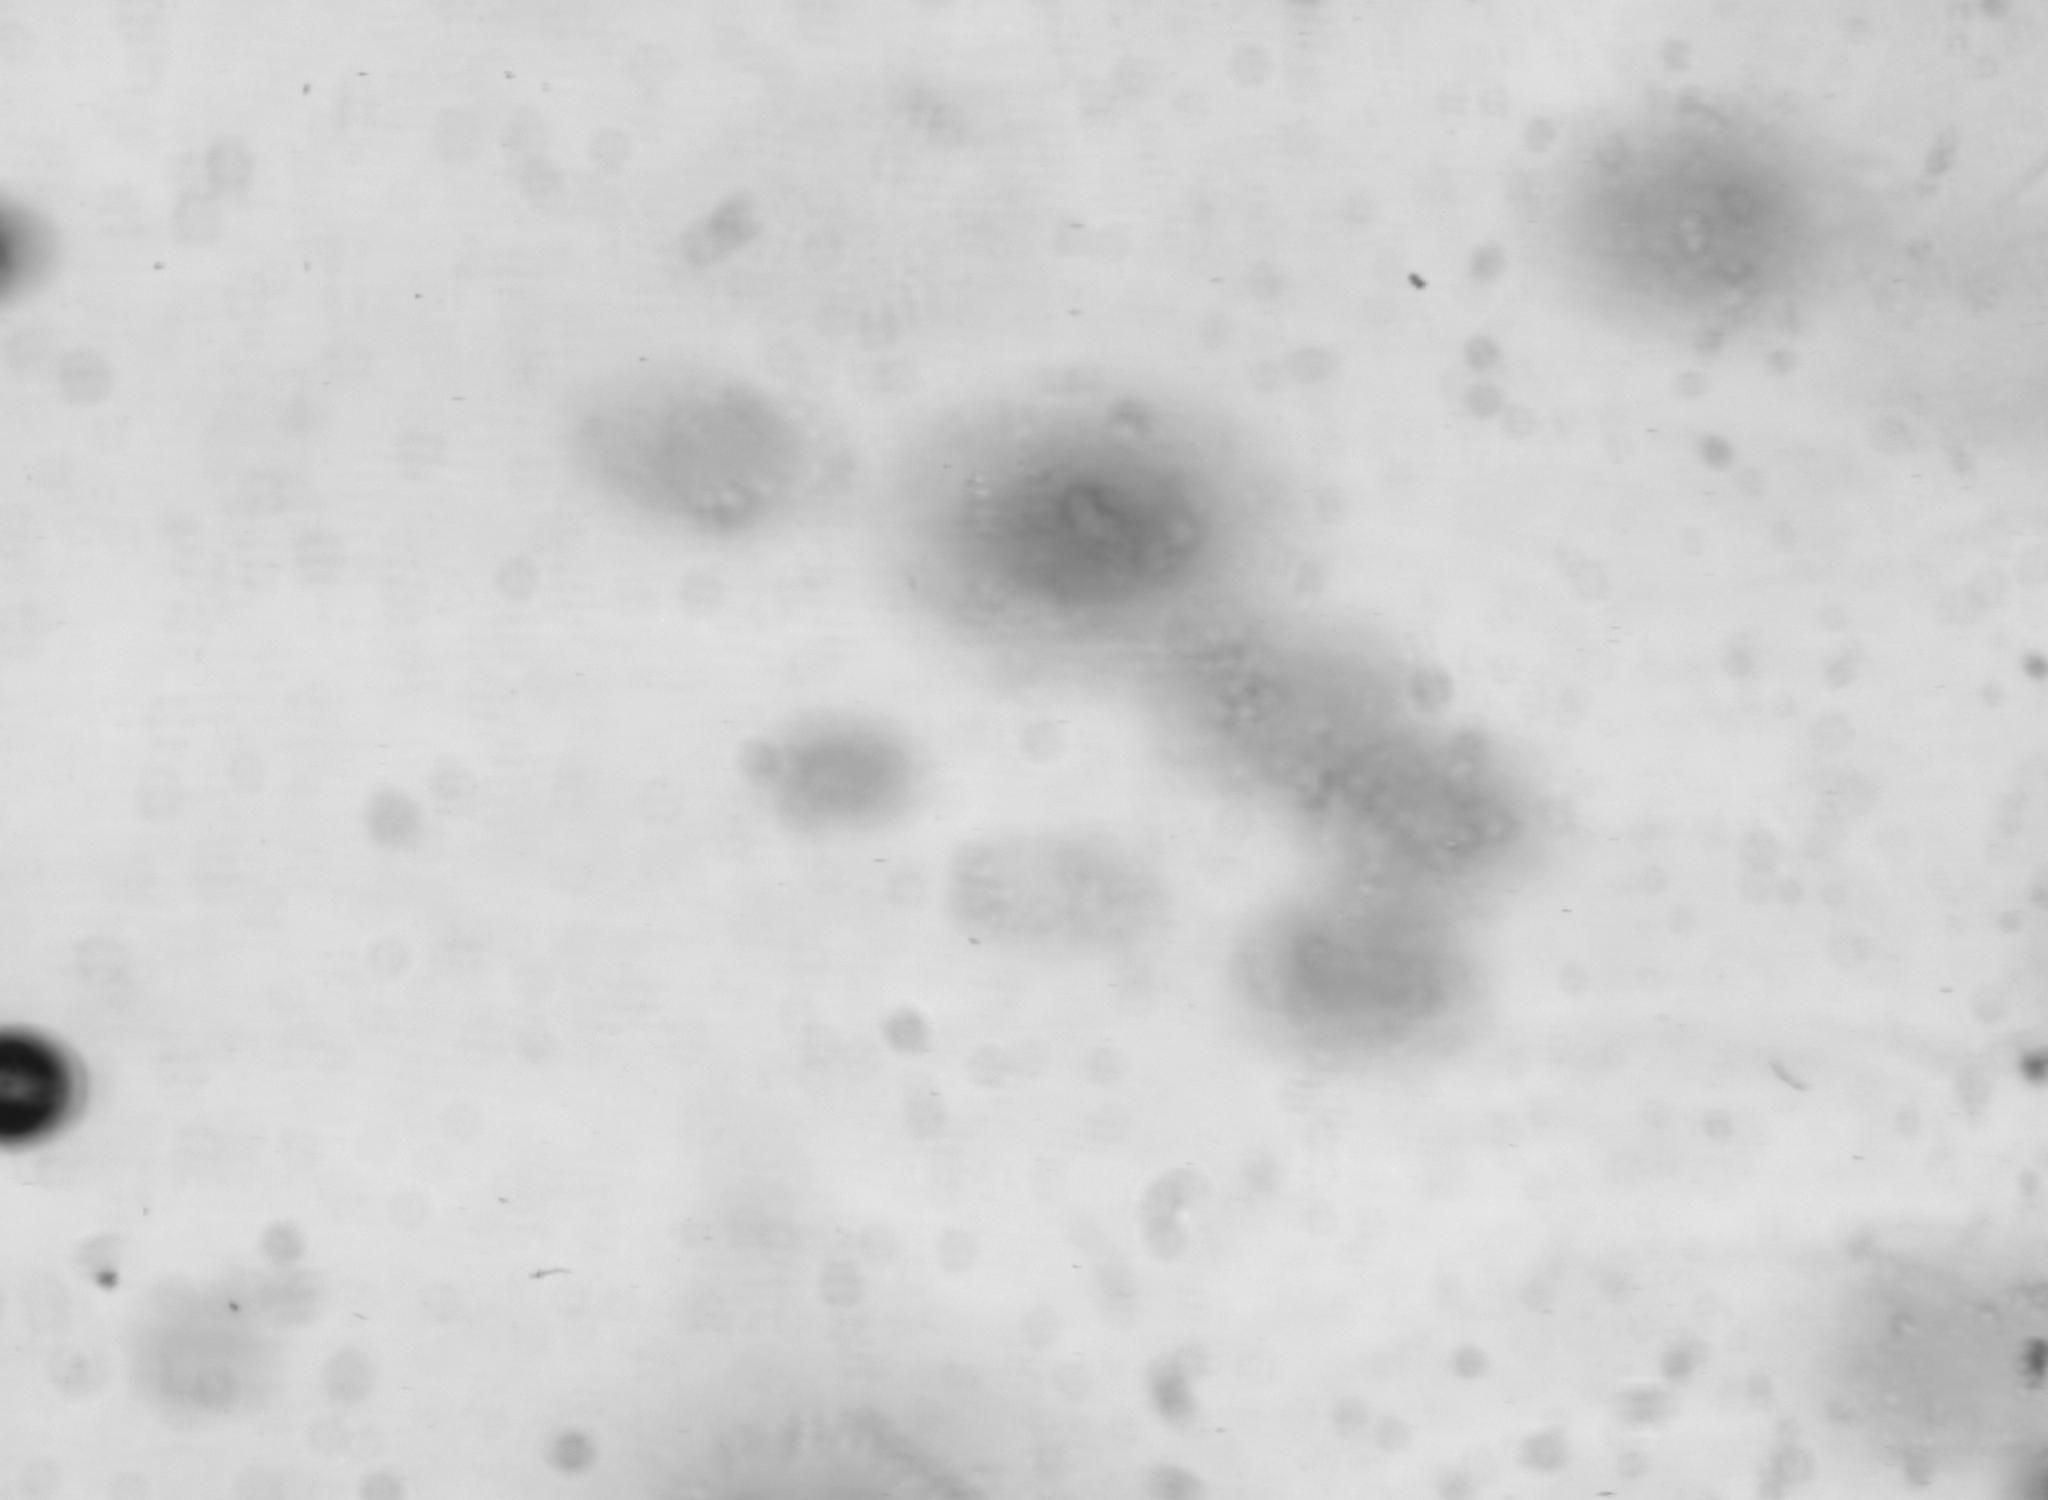bubble: (0, 1034, 72, 1144)
